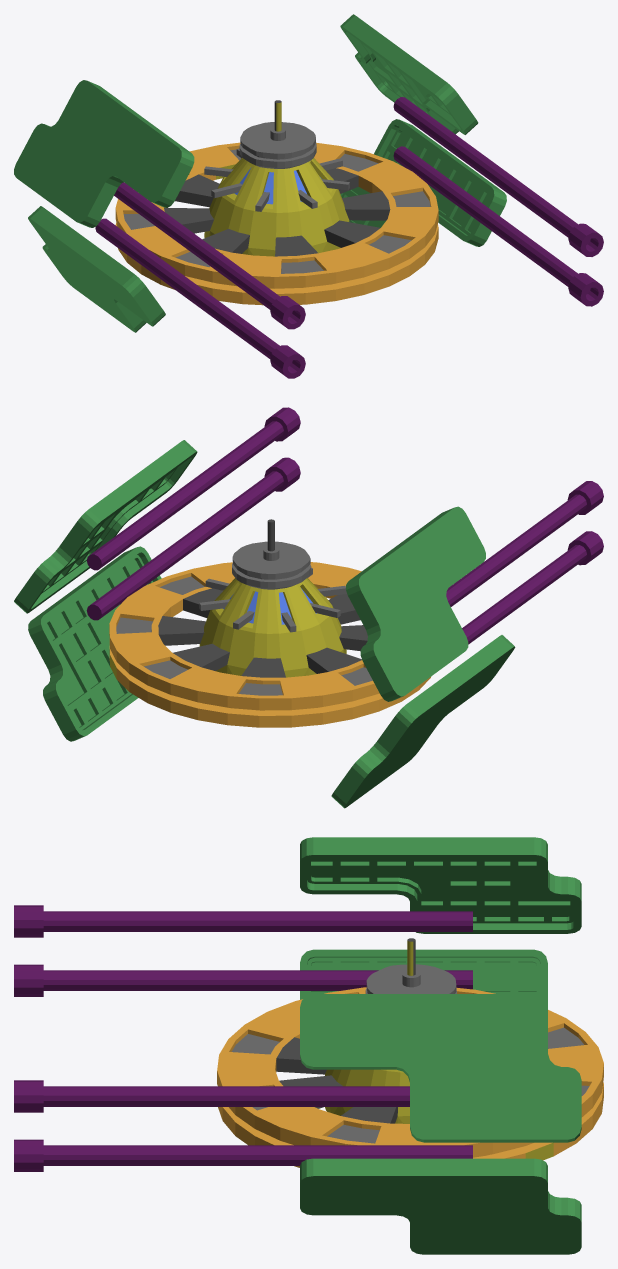
File: alien1.fbx
The picture shows the model from 3 angles, top to bottom: view 1: azimuth 30°, elevation 25°; view 2: azimuth 150°, elevation 25°; view 3: azimuth 270°, elevation 25°; orthographic projection. The views are drawn at different scales.
Parts seen in each view (by area): view 1: Alien Guns, Alien Ship; view 2: Alien Guns, Alien Ship; view 3: Alien Guns, Alien Ship.
Boxes of the visible parts, <box> form: Alien Guns: <box>14,14,603,378</box>; Alien Ship: <box>115,100,438,305</box>; Alien Guns: <box>14,407,603,808</box>; Alien Ship: <box>109,519,430,727</box>; Alien Guns: <box>14,837,581,1254</box>; Alien Ship: <box>217,938,603,1167</box>.
Bounding box in the file's own units: 7.46 × 4.05 × 8.31.
